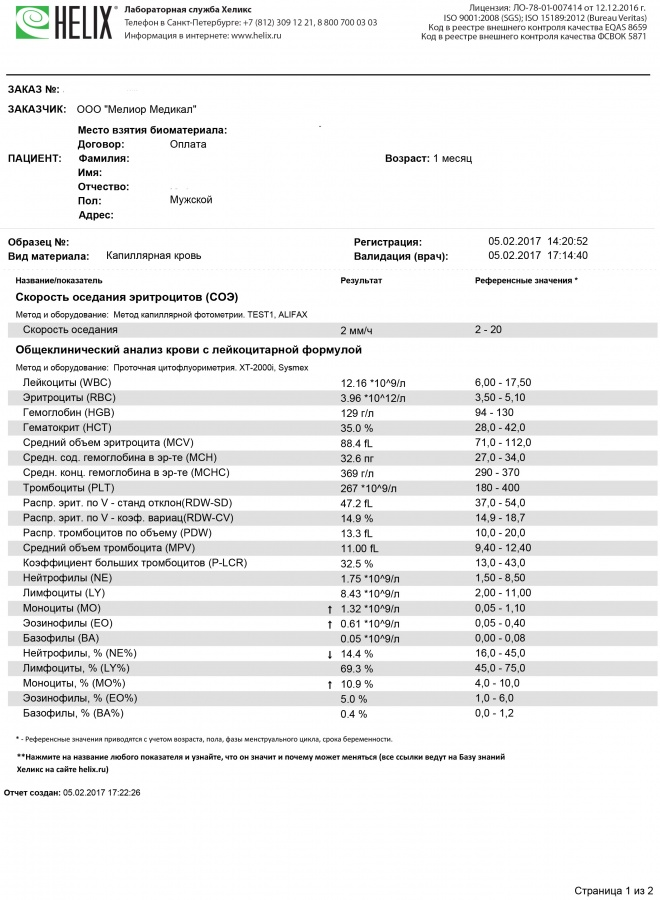column: (22, 376, 247, 719), (340, 376, 405, 719), (474, 376, 531, 719), (22, 325, 118, 335), (475, 276, 572, 285), (15, 276, 103, 285), (340, 276, 382, 285), (339, 325, 372, 335), (473, 325, 502, 335)
